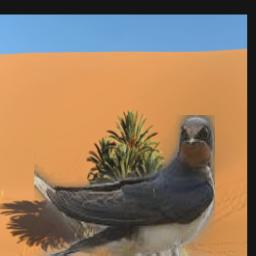Swallow: (35, 116, 216, 256)
